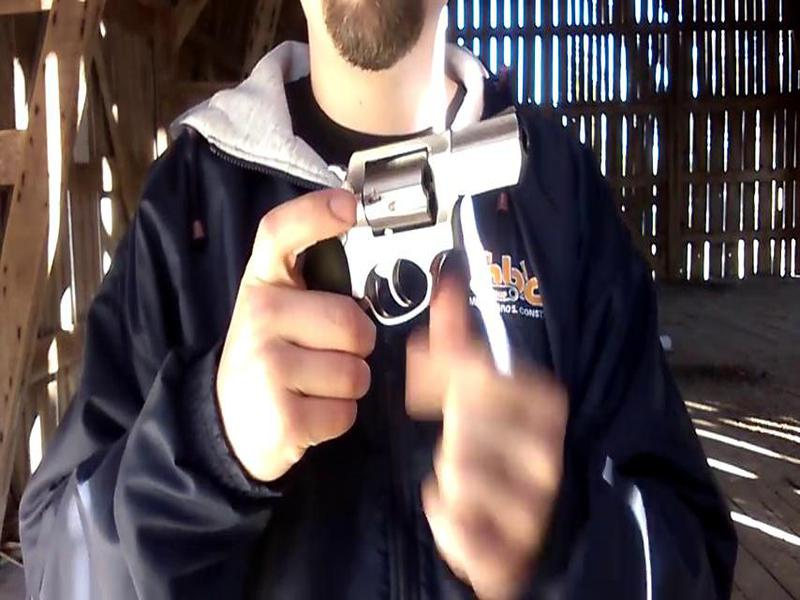Revolver: (264, 78, 527, 395)
